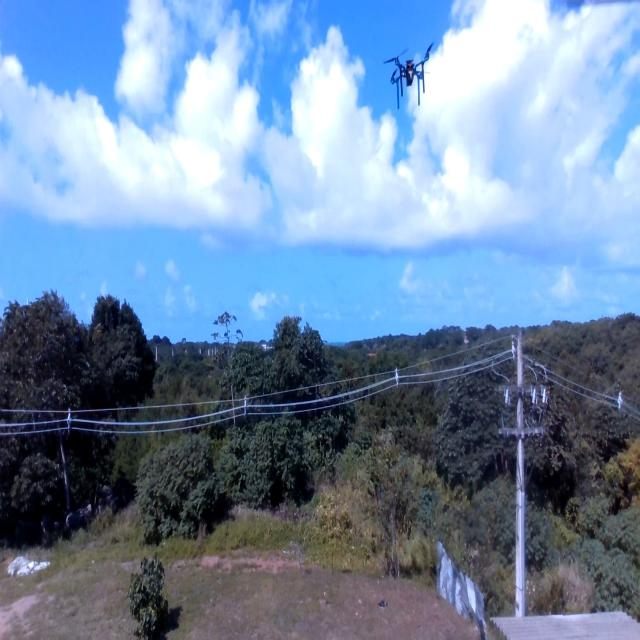-uav-: (378, 35, 440, 112)
